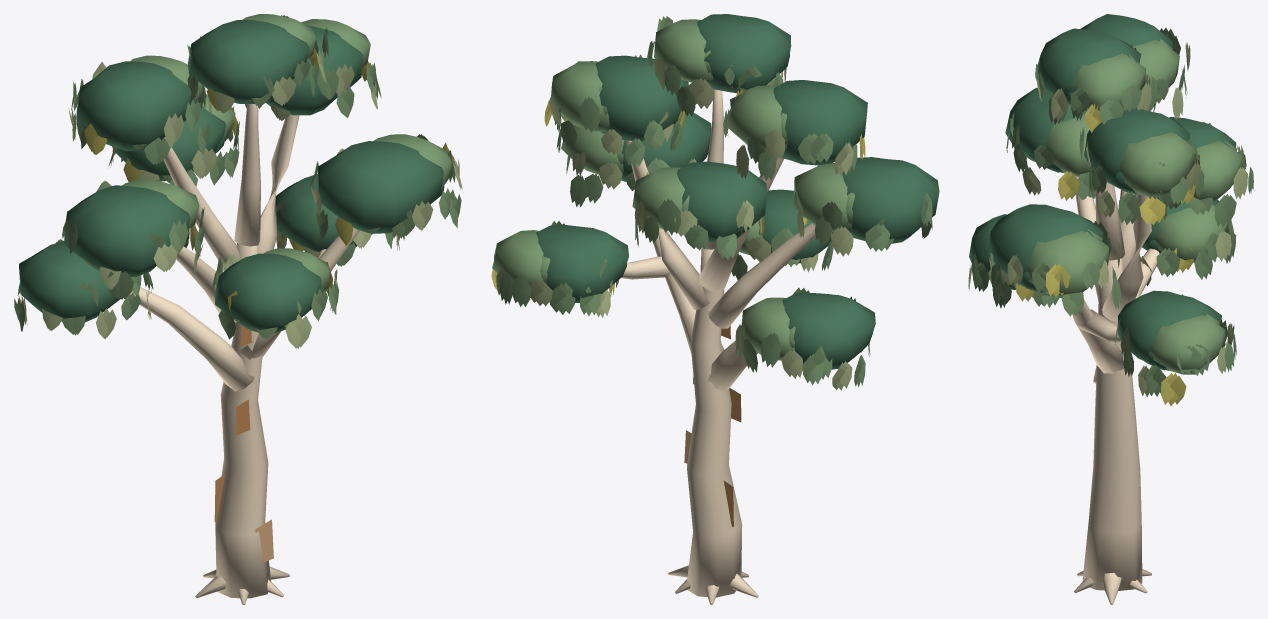
Rendered from TREE_EUCALYPTUS_001_v005_LOD_CLOSE.glb.
3 views of the same model, side by side, from view 1: azimuth 30°, elevation 25°; view 2: azimuth 150°, elevation 25°; view 3: azimuth 270°, elevation 25° (orthographic). The views are drawn at different scales.
Parts seen in each view (by area): view 1: TREE_EUCALYPTUS_001_CLOSE_STYLIZED_LEAF_CLUSTERS, TREE_EUCALYPTUS_001_CLOSE_ORGANIC_LIMB_0, TREE_EUCALYPTUS_001_CLOSE_ORGANIC_LIMB_1, TREE_EUCALYPTUS_001_CLOSE_ORGANIC_LIMB_4, TREE_EUCALYPTUS_001_CLOSE_ORGANIC_LIMB_3, TREE_EUCALYPTUS_001_CLOSE_ORGANIC_LIMB_6, TREE_EUCALYPTUS_001_CLOSE_BARK_BLOCKS, TREE_EUCALYPTUS_001_CLOSE_ORGANIC_LIMB_5, TREE_EUCALYPTUS_001_CLOSE_ORGANIC_LIMB_2; view 2: TREE_EUCALYPTUS_001_CLOSE_STYLIZED_LEAF_CLUSTERS, TREE_EUCALYPTUS_001_CLOSE_ORGANIC_LIMB_0, TREE_EUCALYPTUS_001_CLOSE_ORGANIC_LIMB_2, TREE_EUCALYPTUS_001_CLOSE_ORGANIC_LIMB_6, TREE_EUCALYPTUS_001_CLOSE_ORGANIC_LIMB_3, TREE_EUCALYPTUS_001_CLOSE_ORGANIC_LIMB_1, TREE_EUCALYPTUS_001_CLOSE_ORGANIC_LIMB_4, TREE_EUCALYPTUS_001_CLOSE_ORGANIC_LIMB_5, TREE_EUCALYPTUS_001_CLOSE_BARK_BLOCKS, TREE_EUCALYPTUS_001_CLOSE_ORGANIC_LIMB_7; view 3: TREE_EUCALYPTUS_001_CLOSE_STYLIZED_LEAF_CLUSTERS, TREE_EUCALYPTUS_001_CLOSE_ORGANIC_LIMB_0, TREE_EUCALYPTUS_001_CLOSE_ORGANIC_LIMB_6, TREE_EUCALYPTUS_001_CLOSE_ORGANIC_LIMB_5, TREE_EUCALYPTUS_001_CLOSE_ORGANIC_LIMB_4, TREE_EUCALYPTUS_001_CLOSE_ORGANIC_LIMB_7, TREE_EUCALYPTUS_001_CLOSE_ORGANIC_LIMB_3, TREE_EUCALYPTUS_001_CLOSE_ORGANIC_LIMB_1, TREE_EUCALYPTUS_001_CLOSE_ORGANIC_LIMB_2, TREE_EUCALYPTUS_001_CLOSE_ROOT_FLARE_0.
Boxes of the visible parts, <box> form: TREE_EUCALYPTUS_001_CLOSE_STYLIZED_LEAF_CLUSTERS: <box>14,14,462,348</box>; TREE_EUCALYPTUS_001_CLOSE_ORGANIC_LIMB_0: <box>215,243,271,598</box>; TREE_EUCALYPTUS_001_CLOSE_ORGANIC_LIMB_1: <box>128,287,254,391</box>; TREE_EUCALYPTUS_001_CLOSE_ORGANIC_LIMB_4: <box>234,104,260,246</box>; TREE_EUCALYPTUS_001_CLOSE_ORGANIC_LIMB_3: <box>163,137,240,268</box>; TREE_EUCALYPTUS_001_CLOSE_ORGANIC_LIMB_6: <box>258,114,299,253</box>; TREE_EUCALYPTUS_001_CLOSE_BARK_BLOCKS: <box>214,326,273,561</box>; TREE_EUCALYPTUS_001_CLOSE_ORGANIC_LIMB_5: <box>239,227,359,359</box>; TREE_EUCALYPTUS_001_CLOSE_ORGANIC_LIMB_2: <box>176,246,236,322</box>; TREE_EUCALYPTUS_001_CLOSE_STYLIZED_LEAF_CLUSTERS: <box>491,14,939,390</box>; TREE_EUCALYPTUS_001_CLOSE_ORGANIC_LIMB_0: <box>687,248,742,597</box>; TREE_EUCALYPTUS_001_CLOSE_ORGANIC_LIMB_2: <box>708,223,815,328</box>; TREE_EUCALYPTUS_001_CLOSE_ORGANIC_LIMB_6: <box>626,140,709,309</box>; TREE_EUCALYPTUS_001_CLOSE_ORGANIC_LIMB_3: <box>699,157,783,291</box>; TREE_EUCALYPTUS_001_CLOSE_ORGANIC_LIMB_1: <box>707,341,757,391</box>; TREE_EUCALYPTUS_001_CLOSE_ORGANIC_LIMB_4: <box>701,89,723,249</box>; TREE_EUCALYPTUS_001_CLOSE_ORGANIC_LIMB_5: <box>652,230,724,353</box>; TREE_EUCALYPTUS_001_CLOSE_BARK_BLOCKS: <box>684,326,741,526</box>; TREE_EUCALYPTUS_001_CLOSE_ORGANIC_LIMB_7: <box>621,256,670,279</box>; TREE_EUCALYPTUS_001_CLOSE_STYLIZED_LEAF_CLUSTERS: <box>968,14,1253,406</box>; TREE_EUCALYPTUS_001_CLOSE_ORGANIC_LIMB_0: <box>1082,258,1142,590</box>; TREE_EUCALYPTUS_001_CLOSE_ORGANIC_LIMB_6: <box>1102,193,1151,321</box>; TREE_EUCALYPTUS_001_CLOSE_ORGANIC_LIMB_5: <box>1072,299,1123,373</box>; TREE_EUCALYPTUS_001_CLOSE_ORGANIC_LIMB_4: <box>1095,182,1125,260</box>; TREE_EUCALYPTUS_001_CLOSE_ORGANIC_LIMB_7: <box>1076,309,1120,342</box>; TREE_EUCALYPTUS_001_CLOSE_ORGANIC_LIMB_3: <box>1119,189,1135,270</box>; TREE_EUCALYPTUS_001_CLOSE_ORGANIC_LIMB_1: <box>1093,248,1159,383</box>; TREE_EUCALYPTUS_001_CLOSE_ORGANIC_LIMB_2: <box>1075,176,1098,301</box>; TREE_EUCALYPTUS_001_CLOSE_ROOT_FLARE_0: <box>1102,572,1121,604</box>.
Bounding box in the file's own units: 10 × 14 × 6.75.
